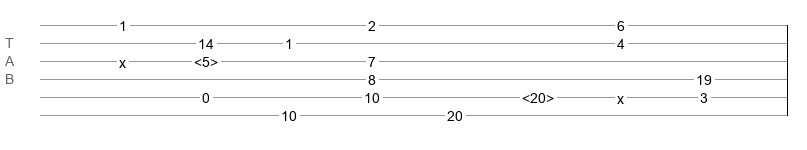0: (202, 90, 210, 100)
1: (119, 18, 127, 28), (285, 36, 293, 46)
10: (281, 108, 297, 118), (364, 90, 380, 100)
14: (198, 36, 214, 46)
19: (696, 72, 712, 82)
2: (368, 18, 376, 28)
20: (447, 108, 463, 118)
3: (700, 90, 708, 100)
4: (617, 36, 625, 46)
6: (617, 18, 625, 28)
7: (368, 54, 376, 64)
8: (368, 72, 376, 82)
harmonic: (522, 90, 554, 100), (194, 54, 218, 64)
x: (119, 55, 126, 63), (617, 91, 624, 99)
